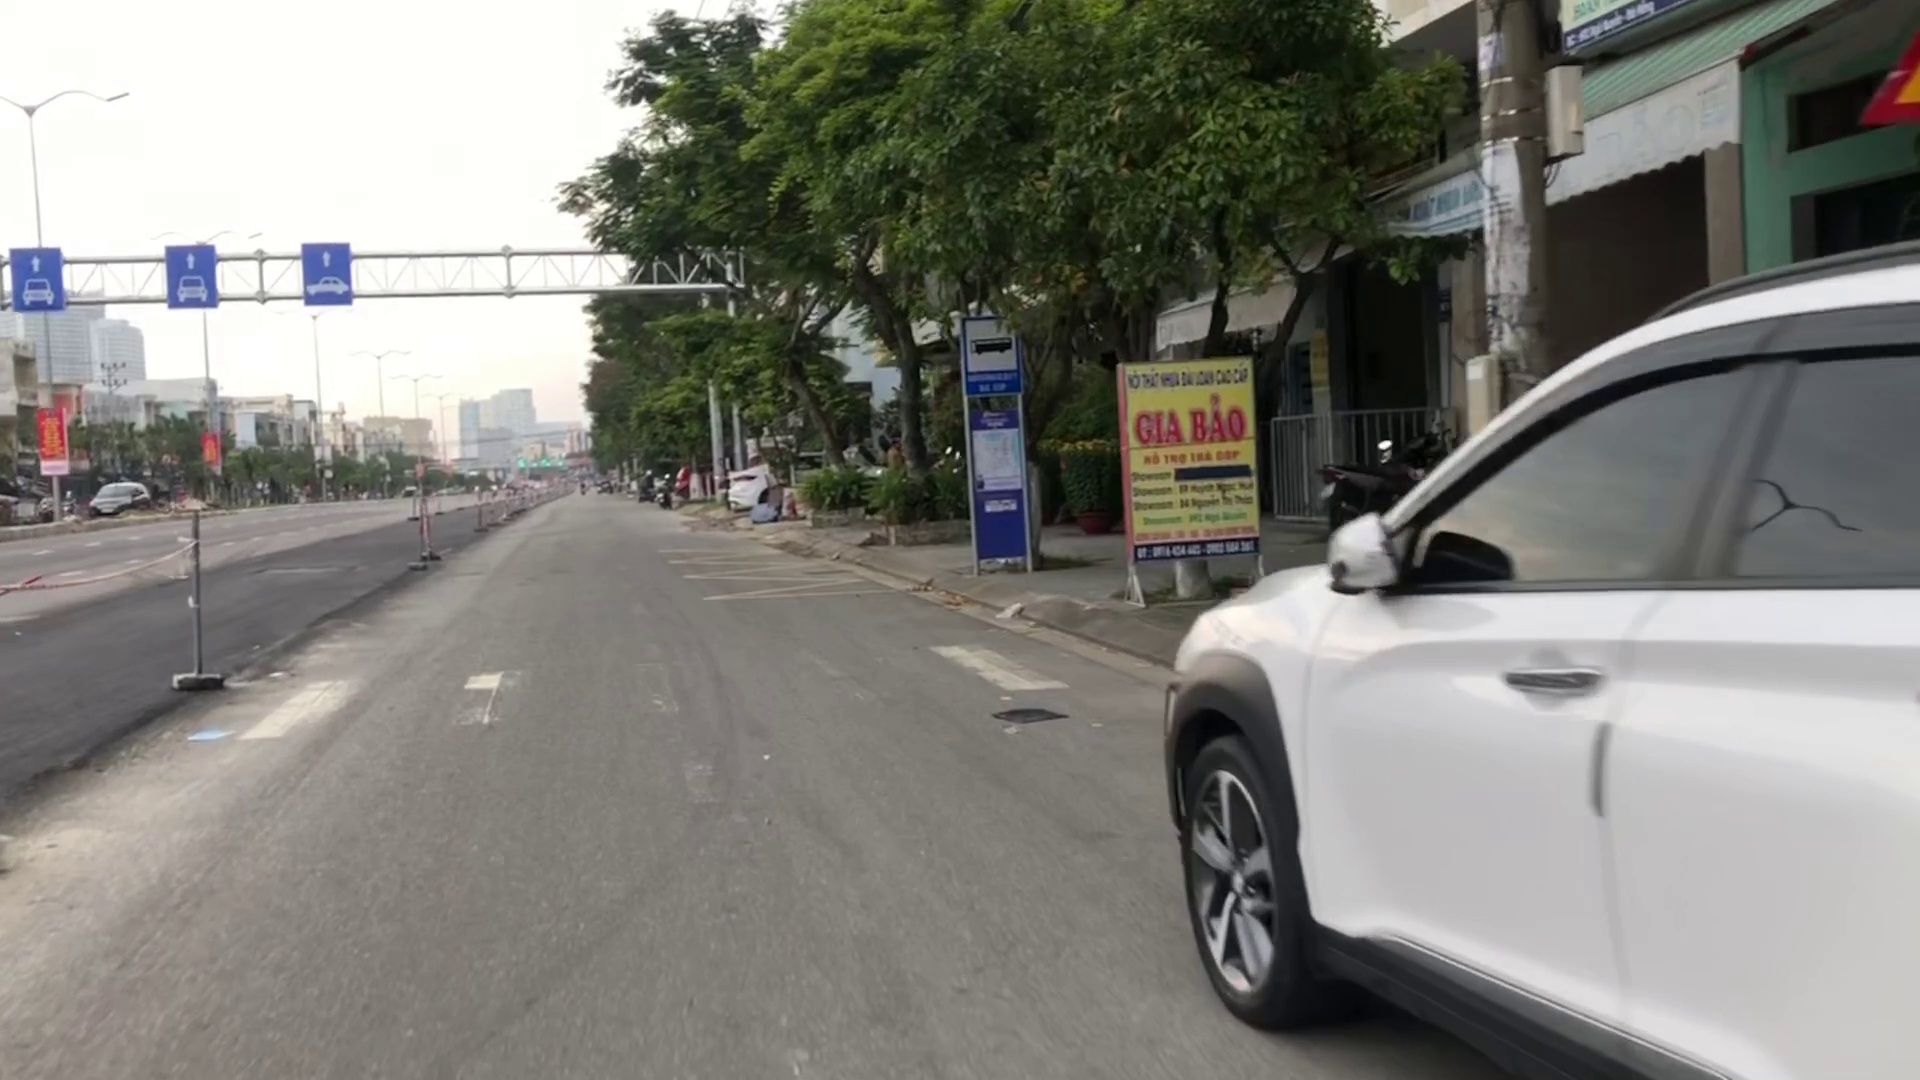Bien khac: (955, 310, 1025, 402)
